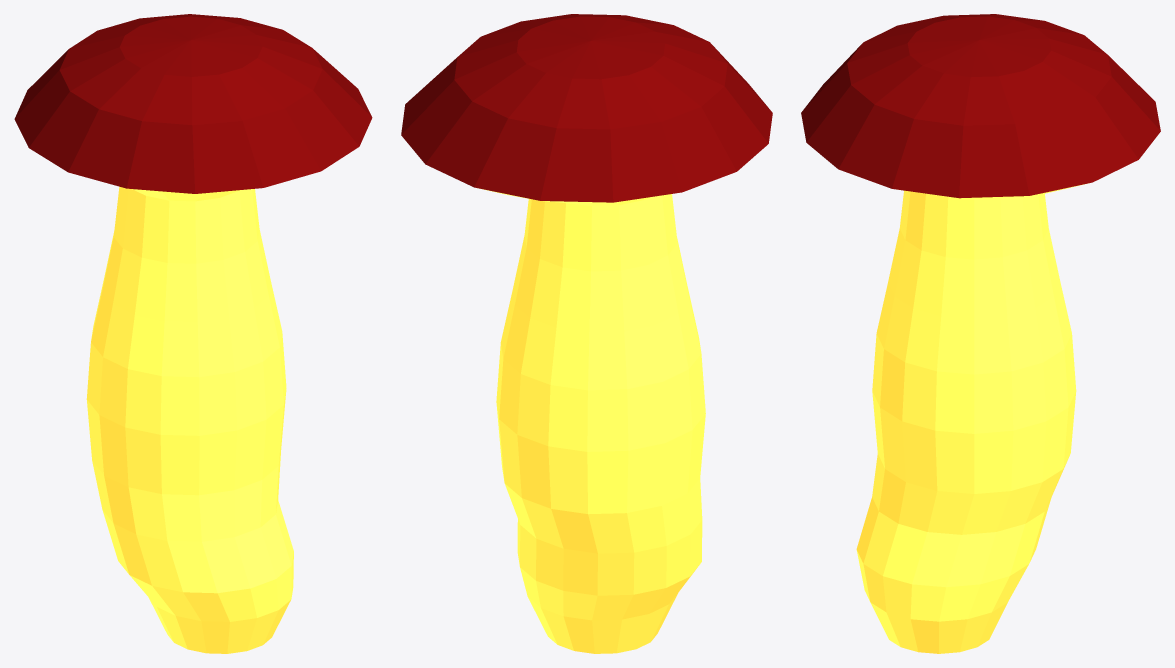
The model's file is Stoutshroom.fbx.
3 views of the same model, side by side, from view 1: azimuth 30°, elevation 25°; view 2: azimuth 150°, elevation 25°; view 3: azimuth 270°, elevation 25° (orthographic). The views are drawn at different scales.
Parts seen in each view (by area): view 1: Cylinder; view 2: Cylinder; view 3: Cylinder.
Part boxes in pixels (bbox=[...]): Cylinder: bbox=[14, 14, 372, 653]; Cylinder: bbox=[401, 14, 772, 653]; Cylinder: bbox=[801, 14, 1160, 653].
Size of the model in its own units: 907 by 1630 by 907.
